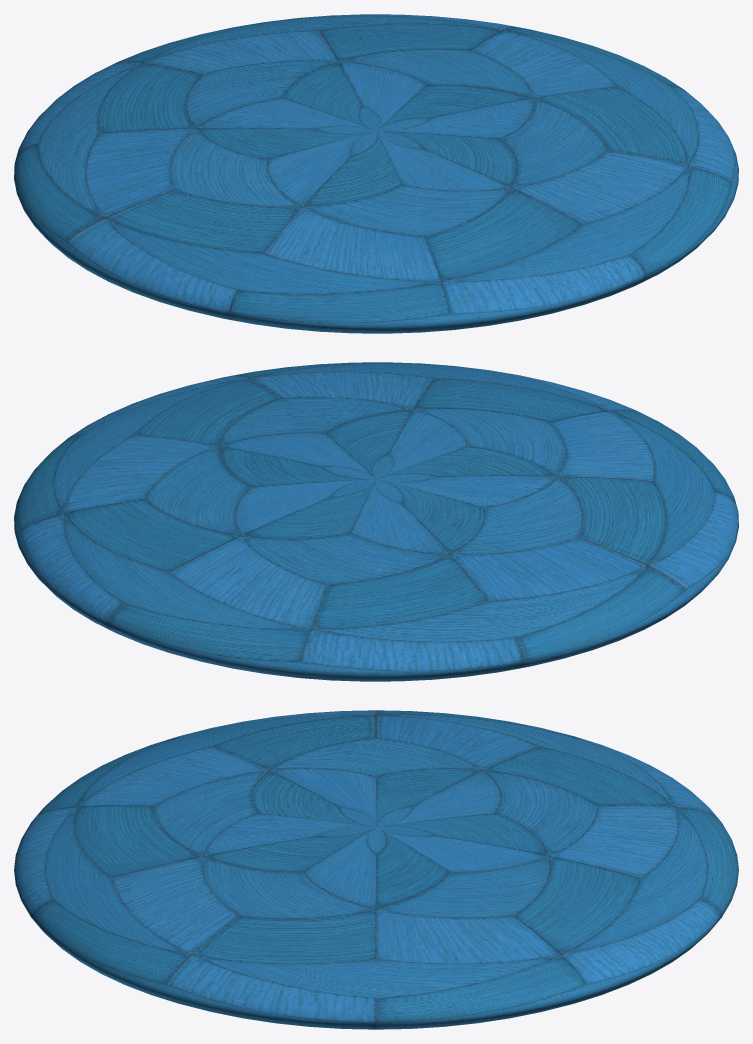
File: DiscBlue.glb
3 views of the same model, one above another, from view 1: azimuth 30°, elevation 25°; view 2: azimuth 150°, elevation 25°; view 3: azimuth 270°, elevation 25° (orthographic).
Parts seen in each view (by area): view 1: Sphere; view 2: Sphere; view 3: Sphere.
Boxes of the visible parts, x1=… form: Sphere: x1=14, y1=14, x2=738, y2=333; Sphere: x1=14, y1=362, x2=738, y2=681; Sphere: x1=14, y1=710, x2=738, y2=1029.
Size of the model in its own units: 2 by 0.2604 by 2.
1 material, 1 textured.
